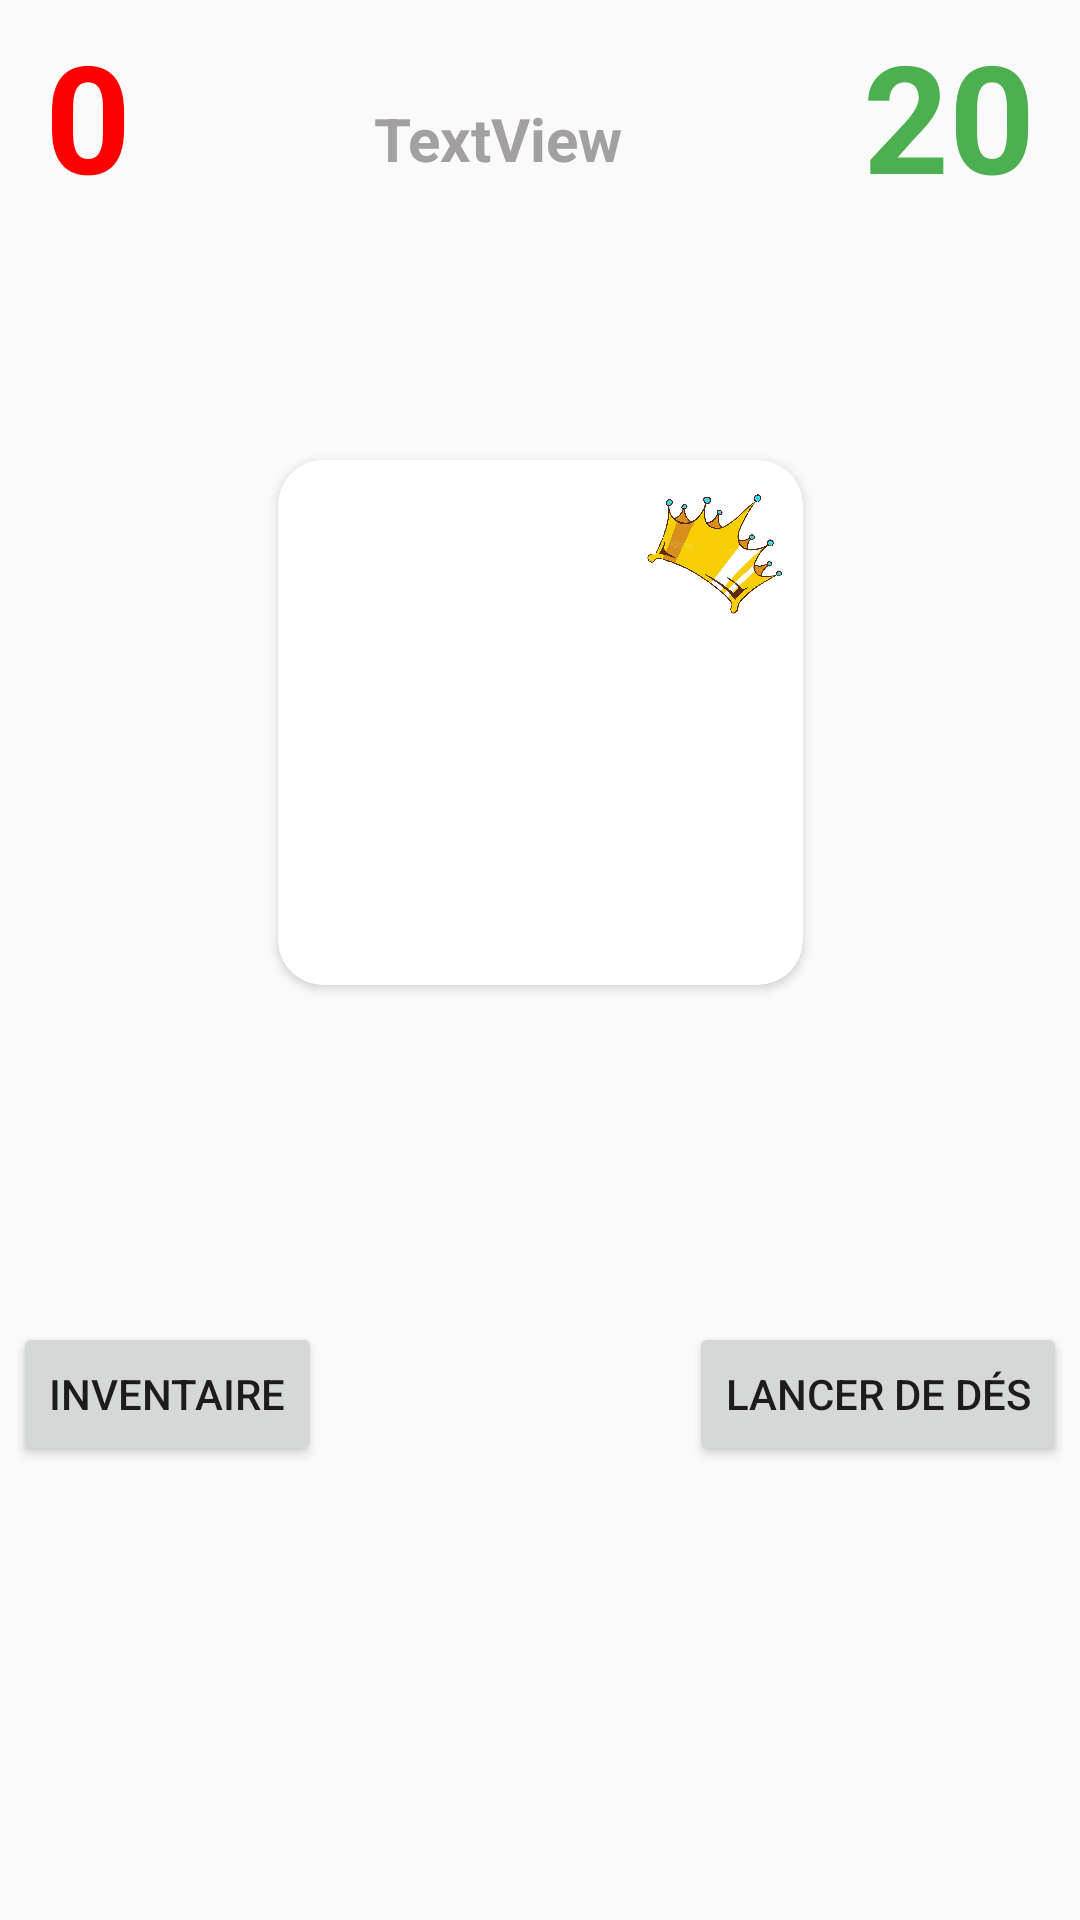

Point at icon controls on the screen. Image size 1080 x 1920, points as [x,y].
crown: [714,554]
